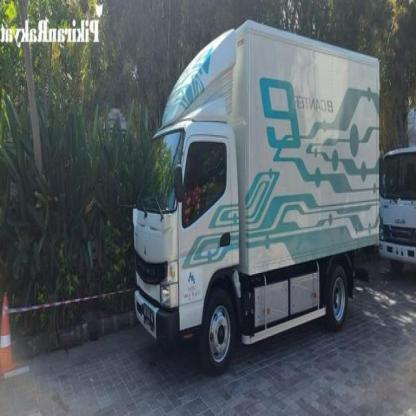truck: (135, 22, 381, 369)
